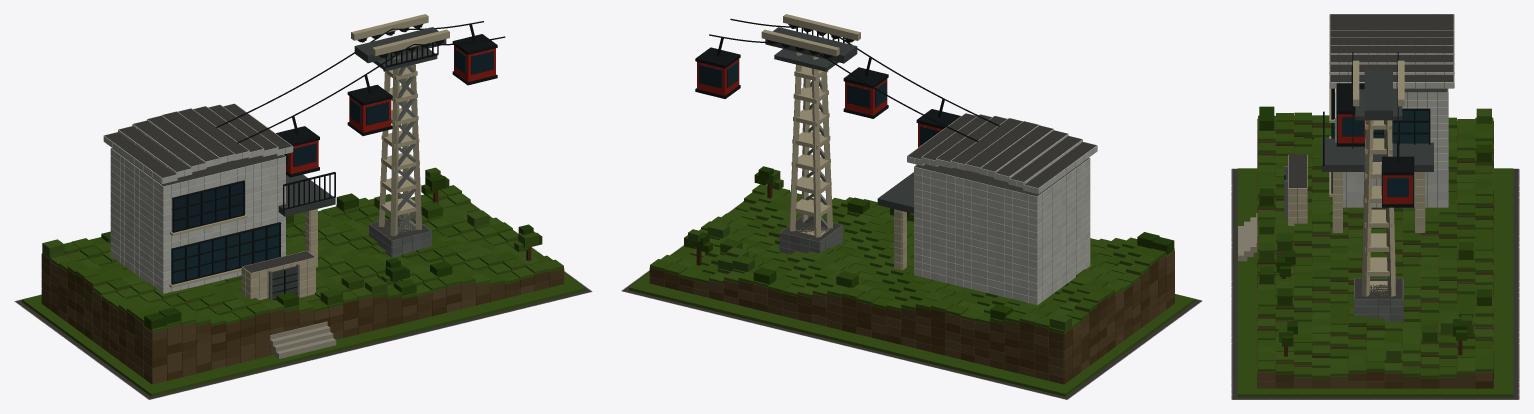
The model's file is SM_Mapa_059.fbx.
The picture shows the model from 3 angles, left to right: view 1: azimuth 30°, elevation 25°; view 2: azimuth 150°, elevation 25°; view 3: azimuth 270°, elevation 25°; orthographic projection. The views are drawn at different scales.
Visible parts, largest first — view 1: SM_Mapa_059; view 2: SM_Mapa_059; view 3: SM_Mapa_059.
Boxes of the visible parts, <box> form: SM_Mapa_059: <box>14,14,592,399</box>; SM_Mapa_059: <box>621,14,1202,399</box>; SM_Mapa_059: <box>1231,14,1519,399</box>.
Size of the model in its own units: 40 by 21.07 by 20.61.
